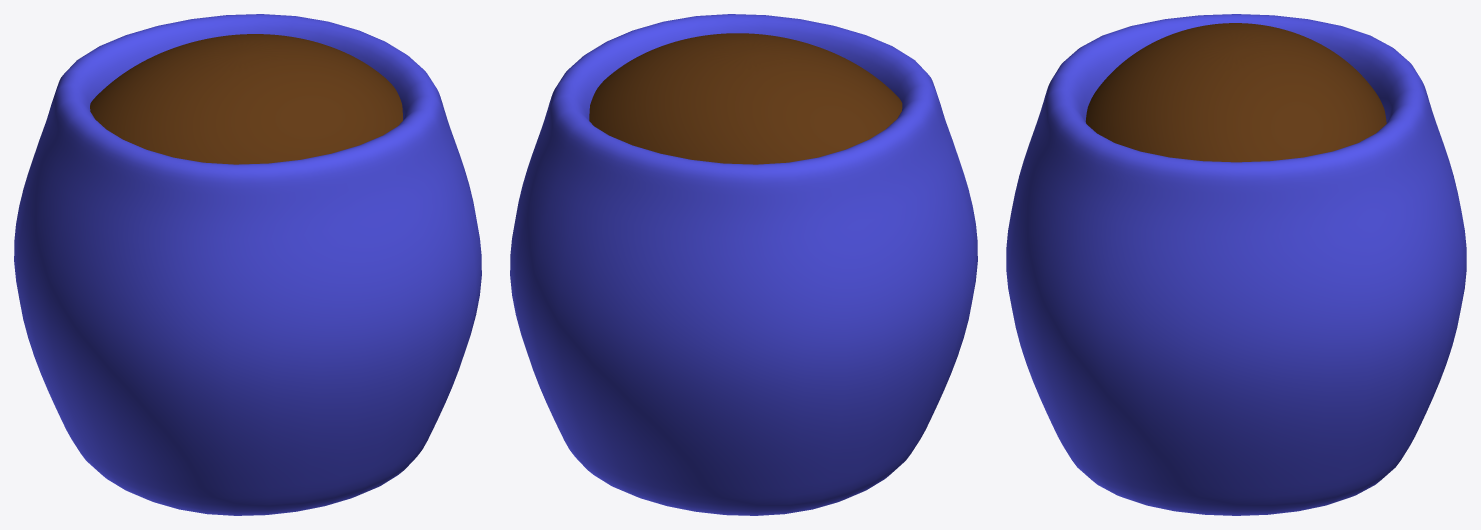
Rendered from mac invierno3.fbx.
The picture shows the model from 3 angles, left to right: view 1: azimuth 30°, elevation 25°; view 2: azimuth 150°, elevation 25°; view 3: azimuth 270°, elevation 25°; orthographic projection.
Parts seen in each view (by area): view 1: Cube.021; view 2: Cube.021; view 3: Cube.021.
Boxes of the visible parts, x1,y1,x2,y2 form: Cube.021: (14, 14, 481, 515); Cube.021: (510, 14, 977, 515); Cube.021: (1006, 14, 1466, 515).
Bounding box in the file's own units: 31.43 × 31.16 × 31.43.
